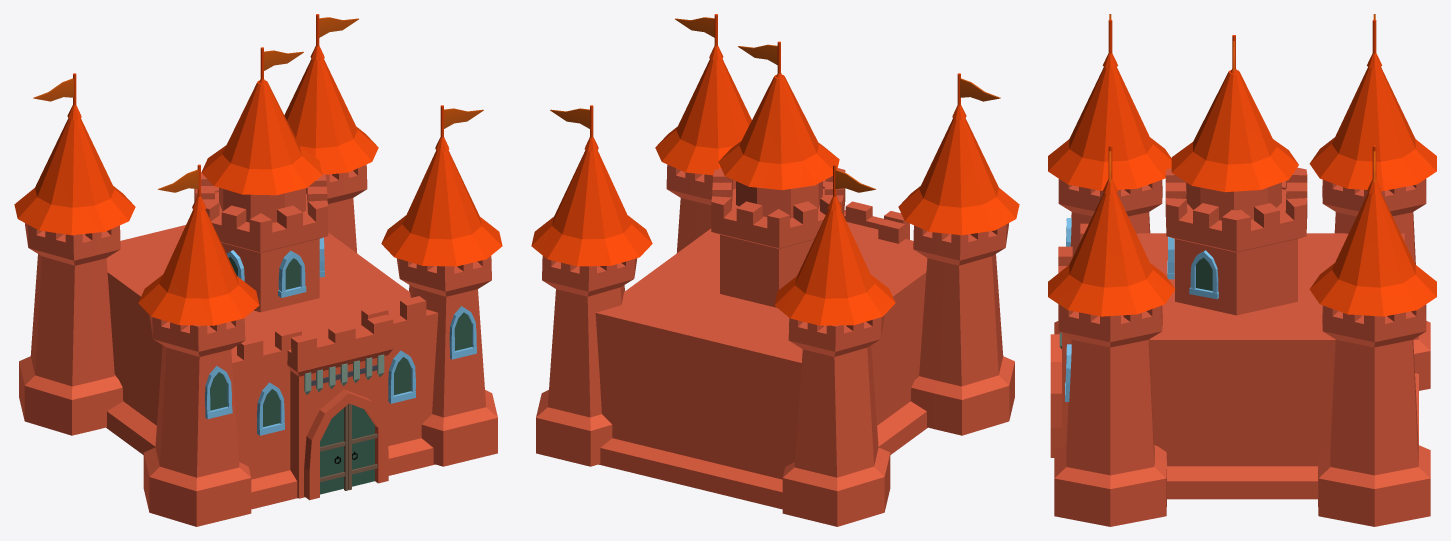
Rendered from tower_1_orange.fbx.
3 views of the same model, side by side, from view 1: azimuth 30°, elevation 25°; view 2: azimuth 150°, elevation 25°; view 3: azimuth 270°, elevation 25° (orthographic). The views are drawn at different scales.
Parts seen in each view (by area): view 1: tower_1_orange; view 2: tower_1_orange; view 3: tower_1_orange.
Part boxes in pixels (x1,y1,x2,y2): tower_1_orange: (14, 14, 502, 526); tower_1_orange: (531, 14, 1019, 526); tower_1_orange: (1048, 14, 1436, 526).
Bounding box in the file's own units: 15.96 × 16.7 × 14.57.
